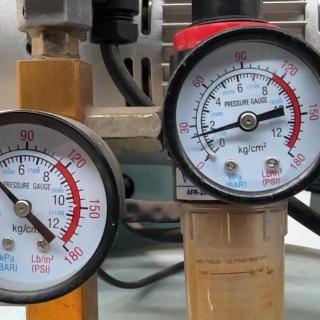gauge: (163, 13, 319, 210), (0, 107, 124, 312), (237, 110, 259, 132), (12, 198, 32, 218), (196, 150, 216, 170), (57, 238, 75, 258), (282, 145, 300, 165), (188, 133, 198, 141)
